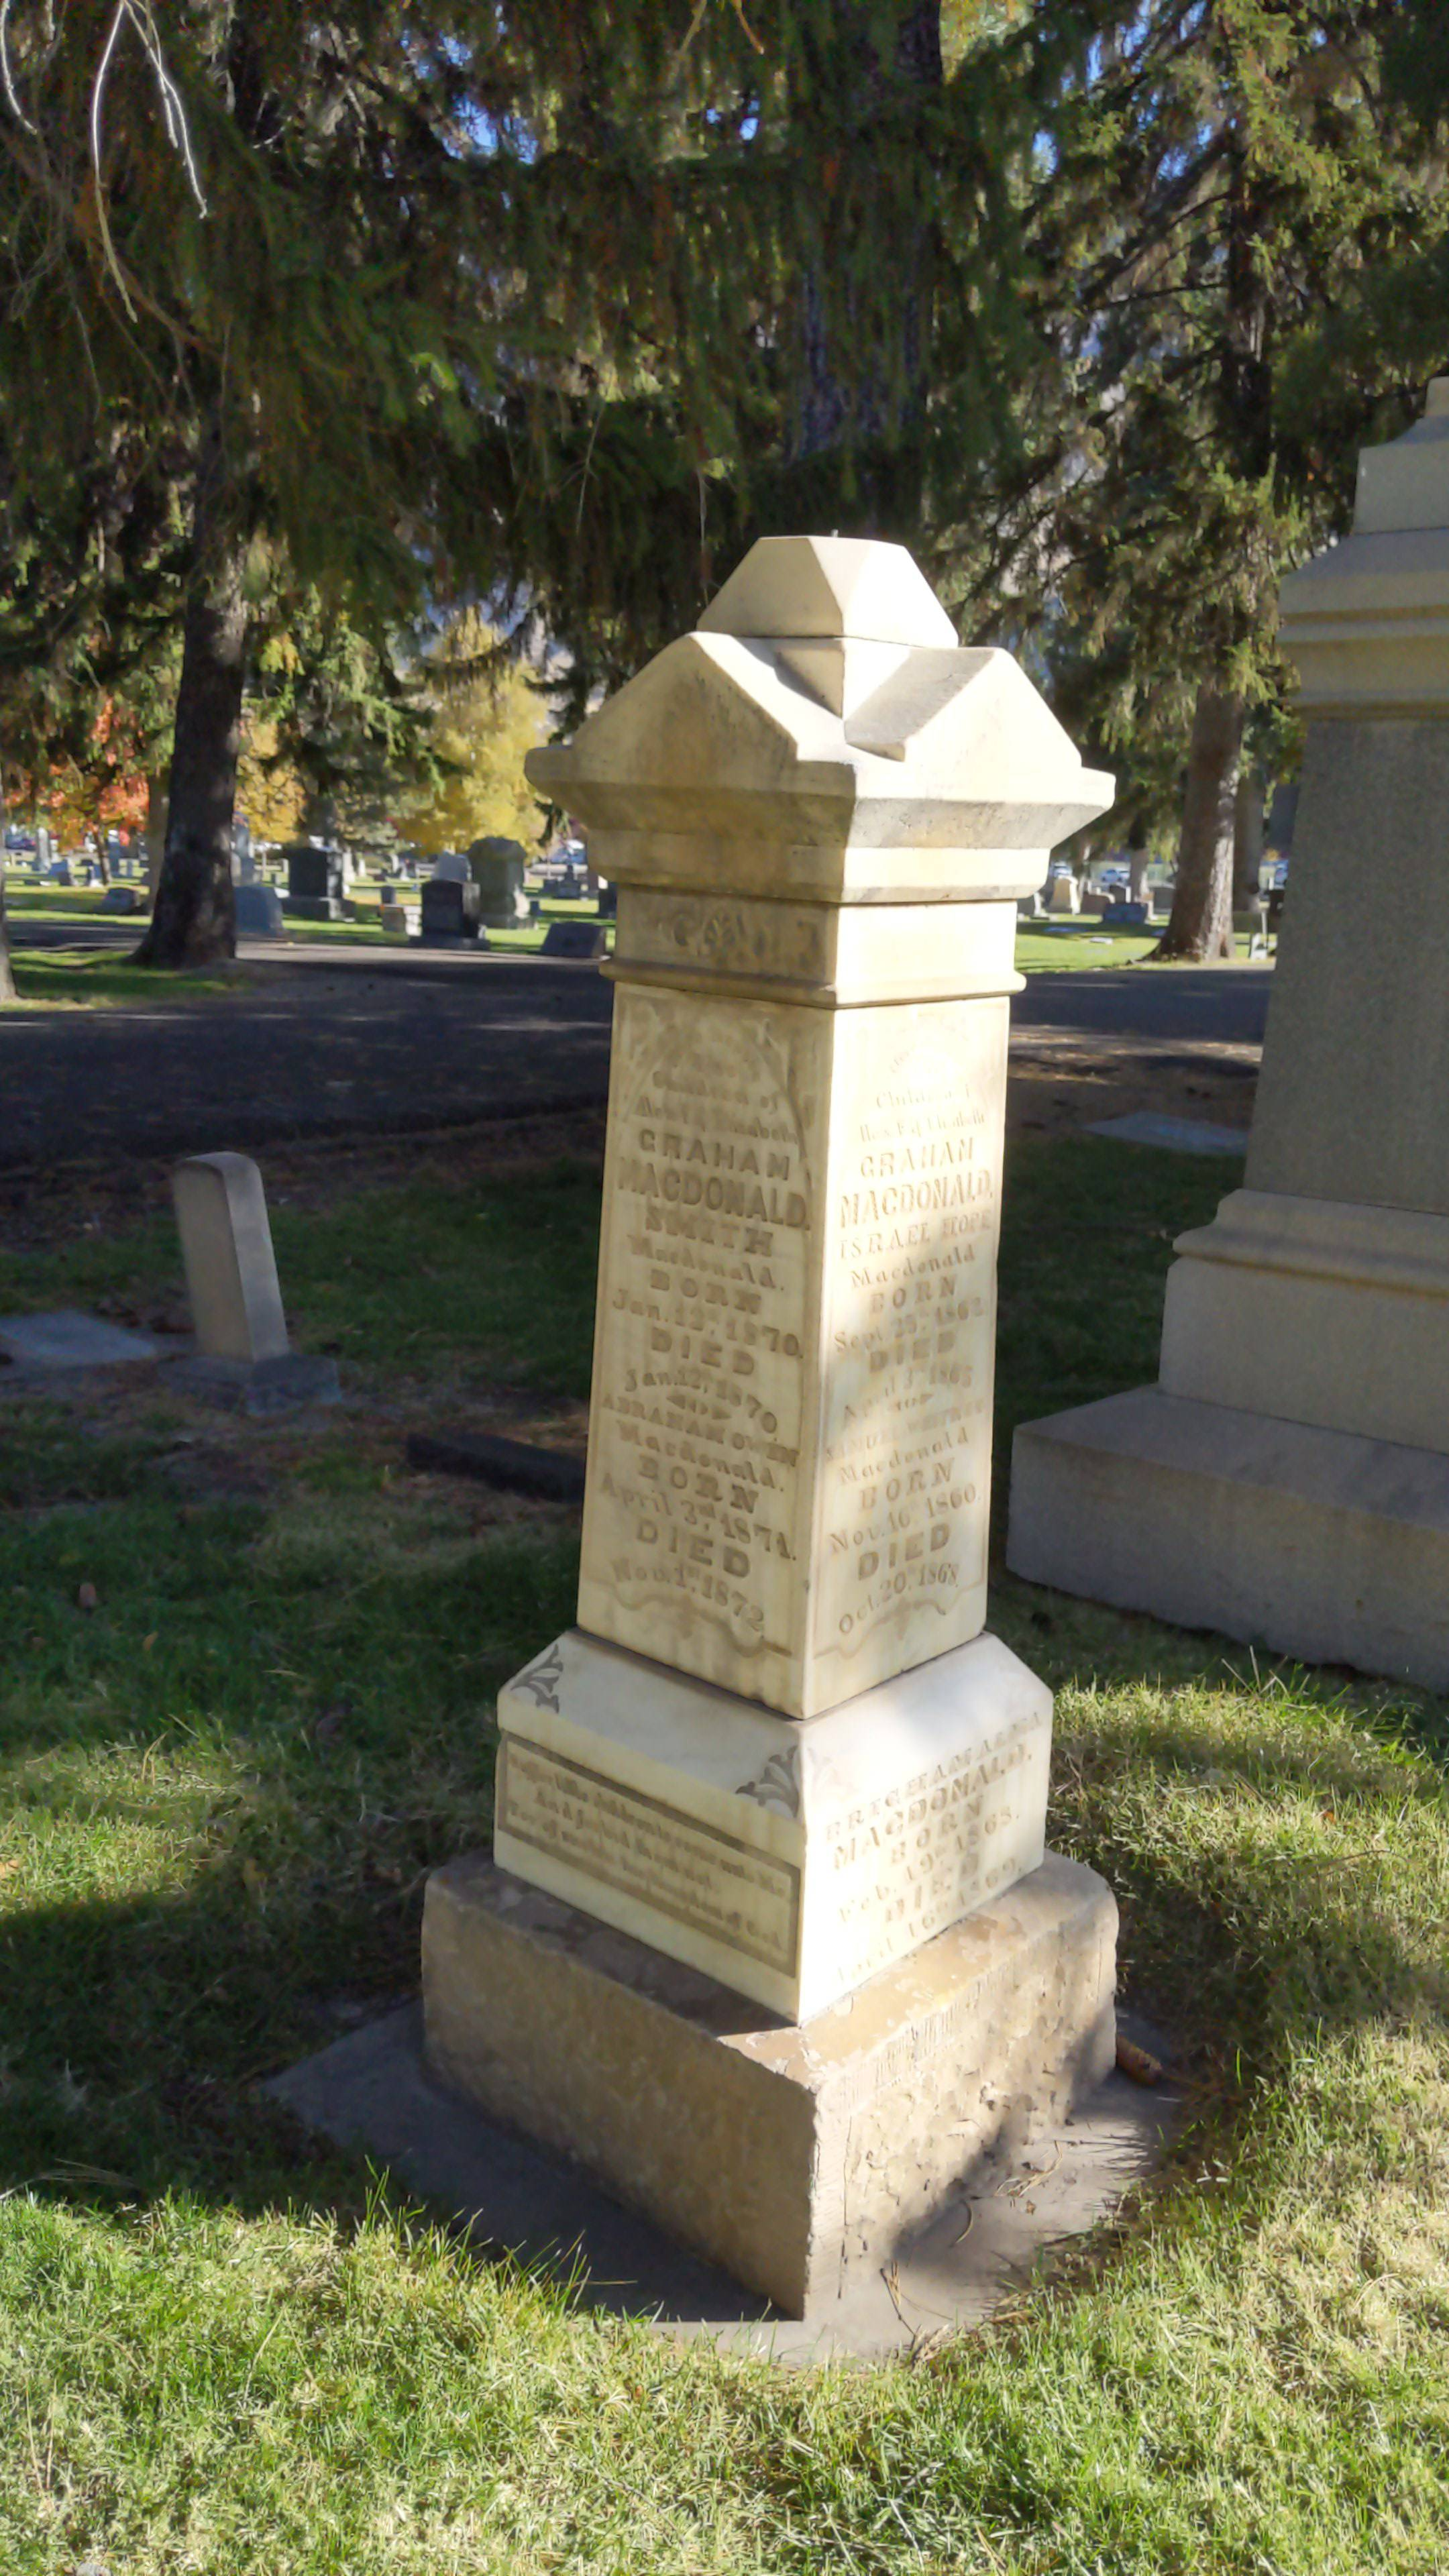obelisk: (494, 531, 1047, 2019)
